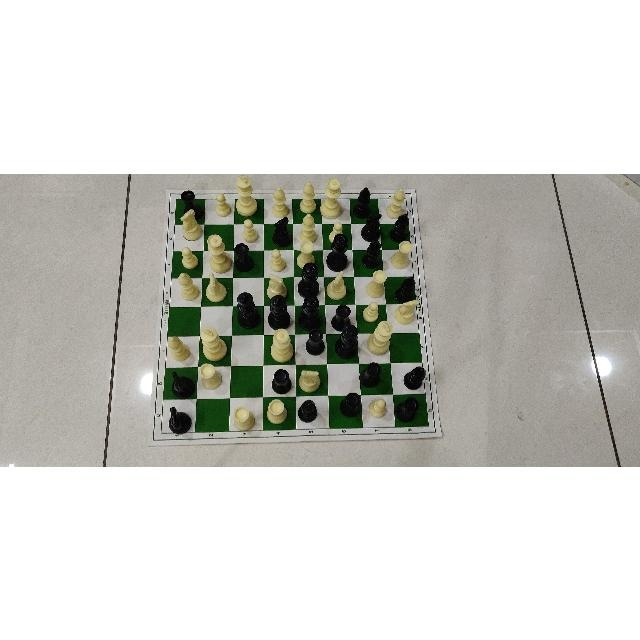black-bishop: (400, 364, 425, 390), (361, 238, 382, 268), (394, 275, 416, 303), (353, 185, 371, 218), (391, 212, 411, 240), (297, 398, 318, 423)
black-king: (236, 292, 260, 328), (268, 294, 292, 330), (334, 324, 358, 360)
black-knight: (169, 368, 195, 398), (166, 405, 193, 433), (360, 212, 383, 242), (271, 215, 291, 246)
black-queen: (326, 232, 349, 271), (298, 294, 322, 330), (296, 262, 319, 298)
black-rook: (394, 395, 419, 423), (338, 390, 362, 418), (304, 326, 326, 356), (232, 242, 253, 272), (180, 188, 201, 218), (270, 368, 294, 394), (359, 361, 382, 388), (331, 303, 351, 331)
white-bishop: (166, 334, 191, 362), (270, 185, 290, 218), (176, 272, 199, 300), (385, 187, 405, 219), (299, 180, 317, 213), (298, 212, 317, 243)
white-king: (200, 325, 228, 361), (366, 319, 394, 355), (235, 174, 258, 215)
white-knight: (179, 207, 203, 240), (204, 271, 227, 302), (394, 297, 420, 324), (326, 268, 347, 299), (298, 367, 320, 393), (266, 273, 288, 299)
white-pawn: (268, 248, 286, 272), (214, 192, 232, 216), (242, 217, 258, 243), (181, 245, 198, 269), (328, 220, 345, 243), (362, 300, 379, 322), (368, 398, 386, 418)
white-queen: (207, 233, 233, 273), (320, 176, 342, 217), (270, 327, 294, 363)
white-rook: (391, 239, 413, 269), (200, 361, 222, 390), (232, 404, 256, 430), (265, 398, 289, 424), (367, 268, 387, 298), (296, 239, 316, 269)
